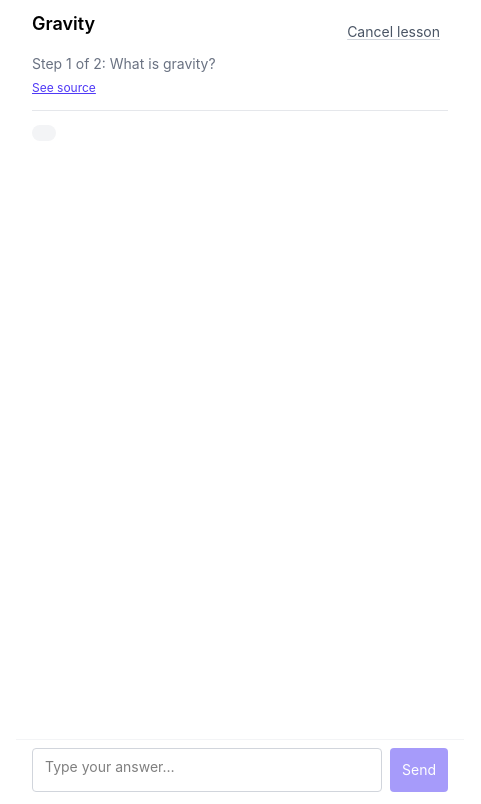
Test: ChatScreen › shows the PDF page with the current step source evidence
Step 1. Click the button "See source" → (64,88), box [32,80,96,96]
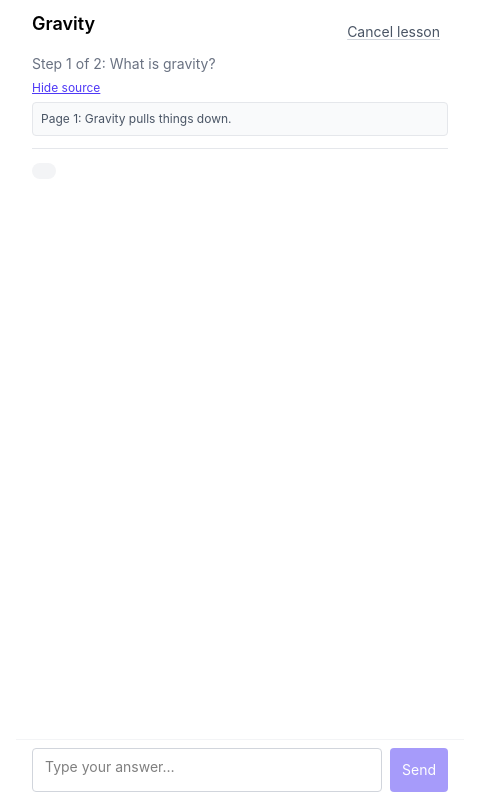
Expected: the text "Page 1: Gravity pulls things down." is shown, [32,102,448,136]
